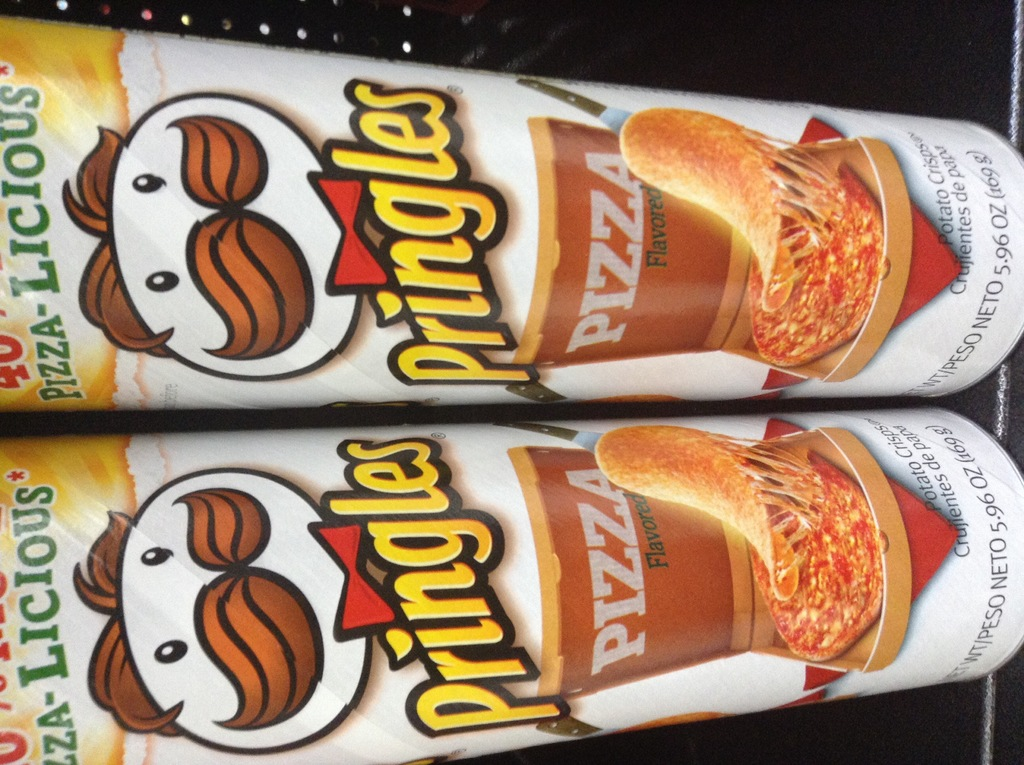Pizza: (744, 161, 881, 369), (744, 450, 883, 651)
